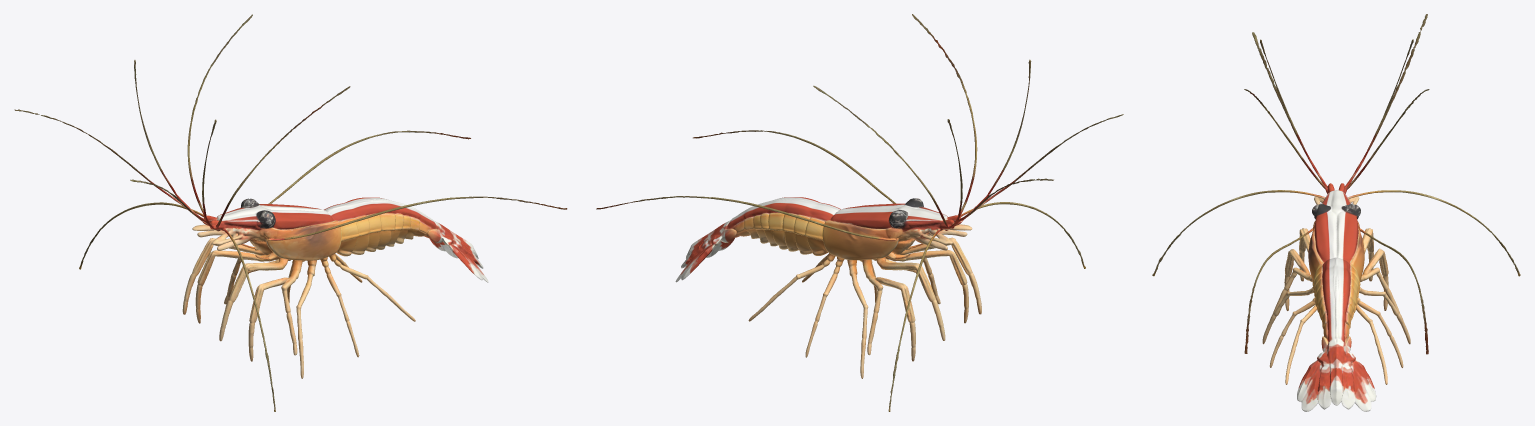
File: Camarón-limpiador-de-California.glb
The picture shows the model from 3 angles, left to right: view 1: azimuth 30°, elevation 25°; view 2: azimuth 150°, elevation 25°; view 3: azimuth 270°, elevation 25°; orthographic projection. The views are drawn at different scales.
Visible parts, largest first — view 1: tripo_node_5796afd3-549c-4240-92e1-39aad3c0bd3e; view 2: tripo_node_5796afd3-549c-4240-92e1-39aad3c0bd3e; view 3: tripo_node_5796afd3-549c-4240-92e1-39aad3c0bd3e.
Part boxes in pixels (x1=…): tripo_node_5796afd3-549c-4240-92e1-39aad3c0bd3e: x1=14, y1=14, x2=567, y2=411; tripo_node_5796afd3-549c-4240-92e1-39aad3c0bd3e: x1=596, y1=14, x2=1123, y2=411; tripo_node_5796afd3-549c-4240-92e1-39aad3c0bd3e: x1=1152, y1=14, x2=1520, y2=411.
Size of the model in its own units: 0.9983 by 0.6082 by 0.7434.
Materials: 1 (1 with a texture image).
